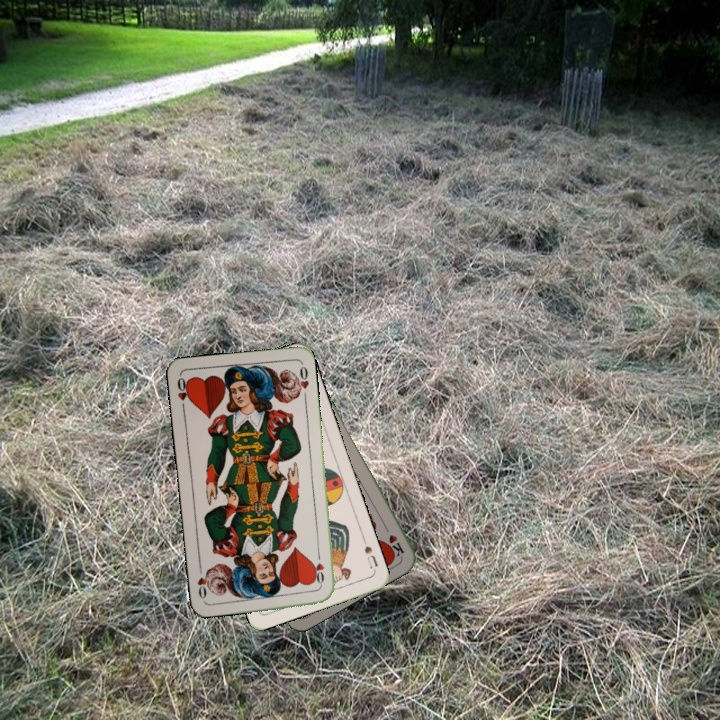HK: (380, 520, 407, 559)
HO: (173, 373, 193, 413), (311, 549, 327, 589)
SU: (359, 535, 381, 571)
